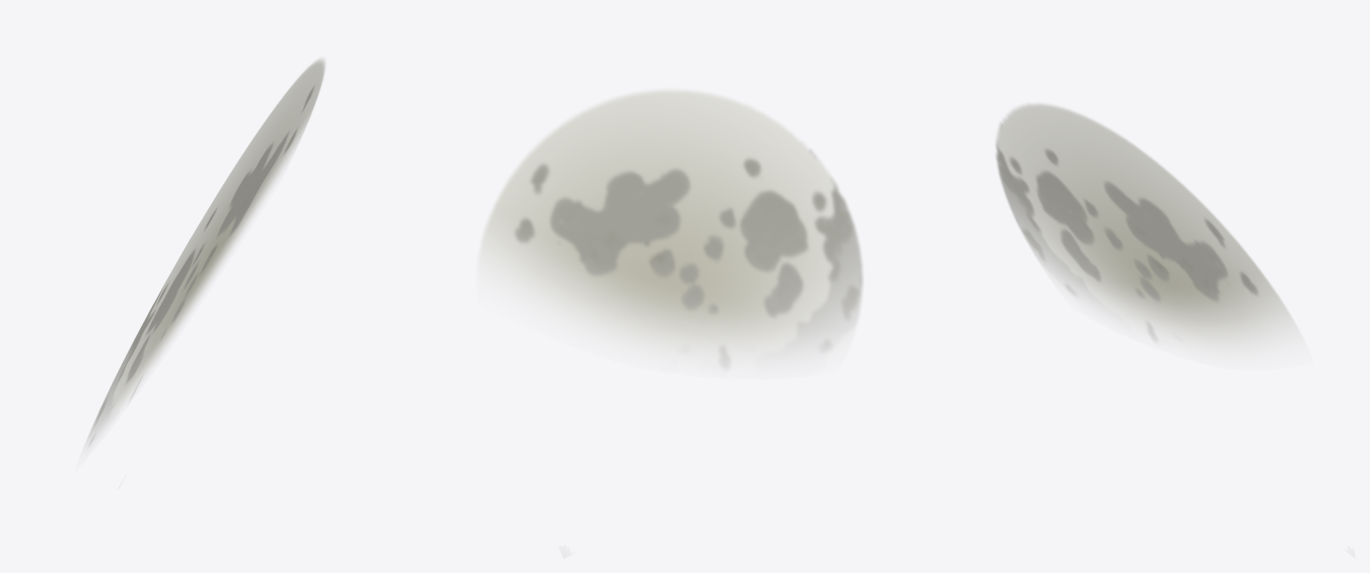
The model's file is moon.gltf.
3 renders of one model, left to right at view 1: azimuth 30°, elevation 25°; view 2: azimuth 150°, elevation 25°; view 3: azimuth 270°, elevation 25°, orthographic. The views are drawn at different scales.
Visible parts, largest first — view 1: Moon; view 2: Moon; view 3: Moon.
Part boxes in pixels (x1=…): Moon: x1=84, y1=58, x2=325, y2=448; Moon: x1=478, y1=89, x2=862, y2=368; Moon: x1=995, y1=103, x2=1301, y2=346.
Size of the model in its own units: 9.02 by 9.33 by 6.35.
1 material, 1 textured.
